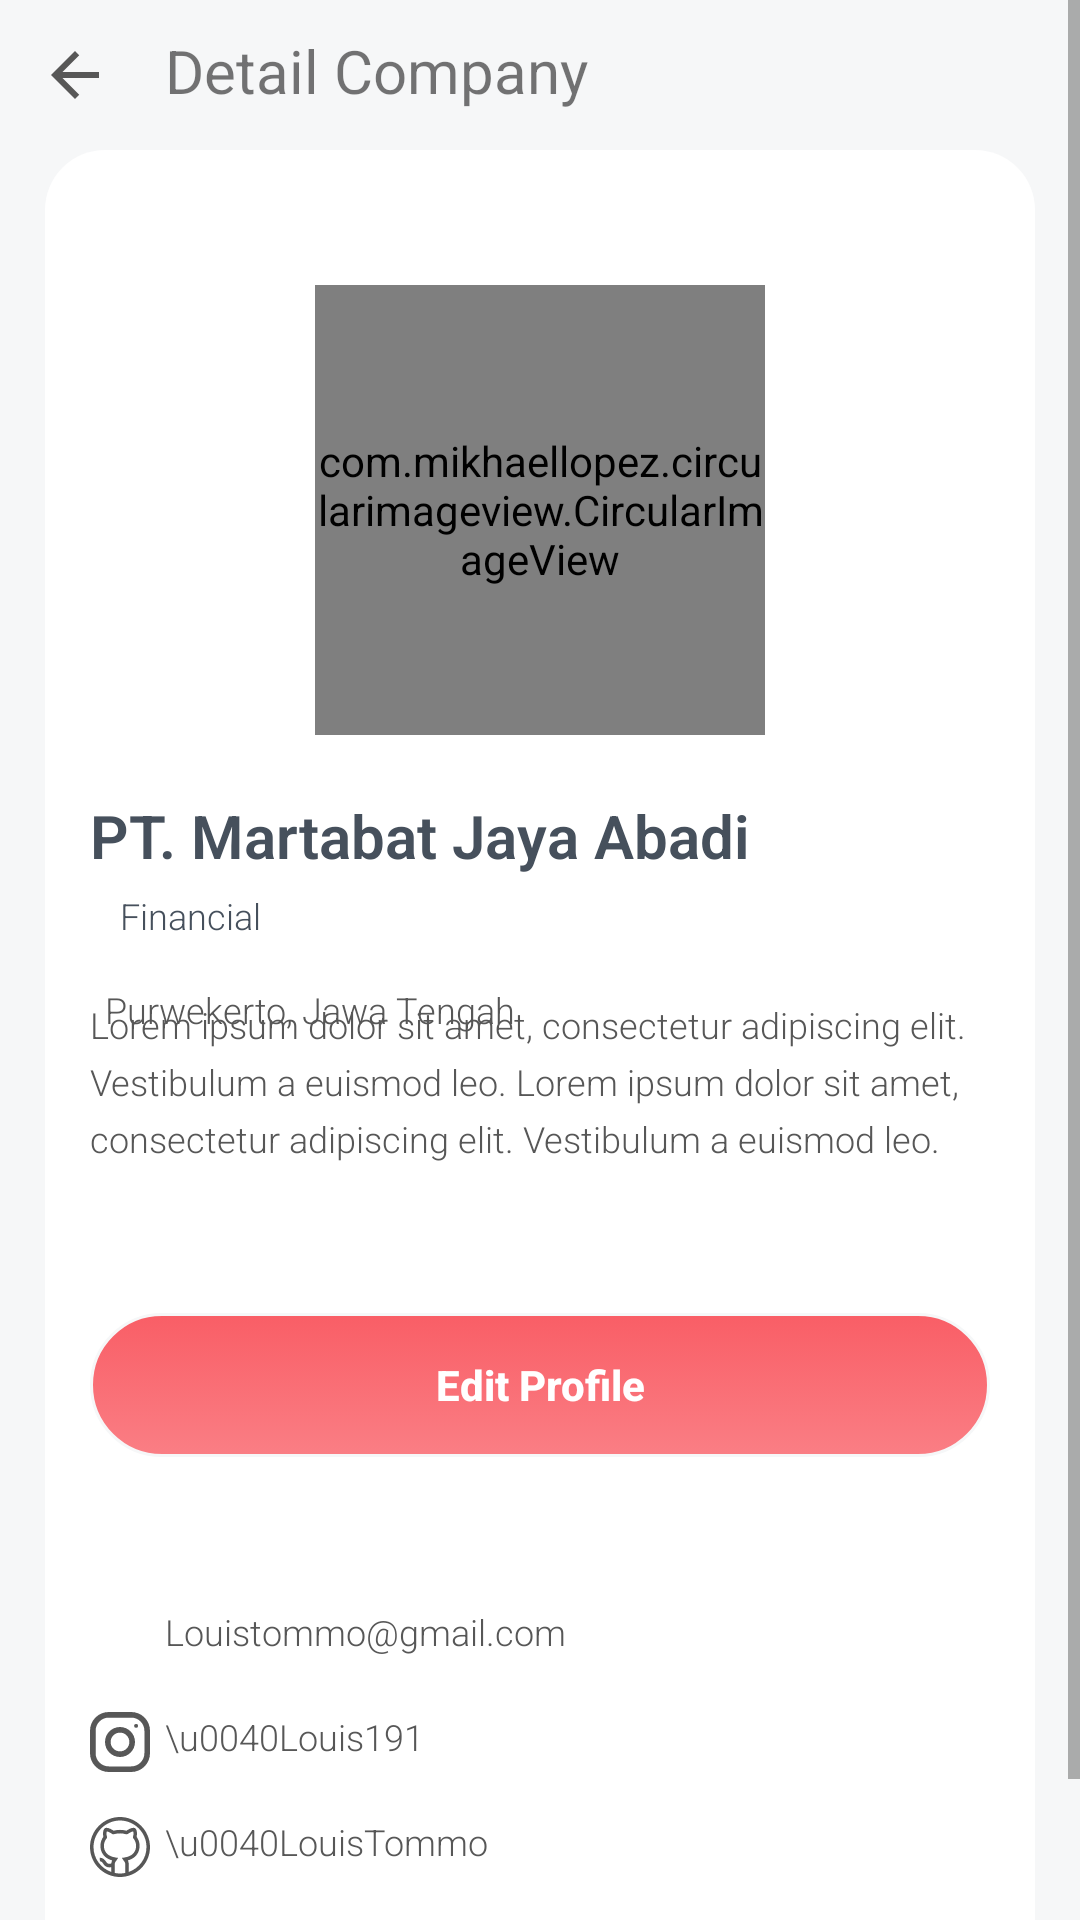

Where to tap for icons on this 1080 x 1920 app screen, as [x,y]:
arrow back: [75,75]
